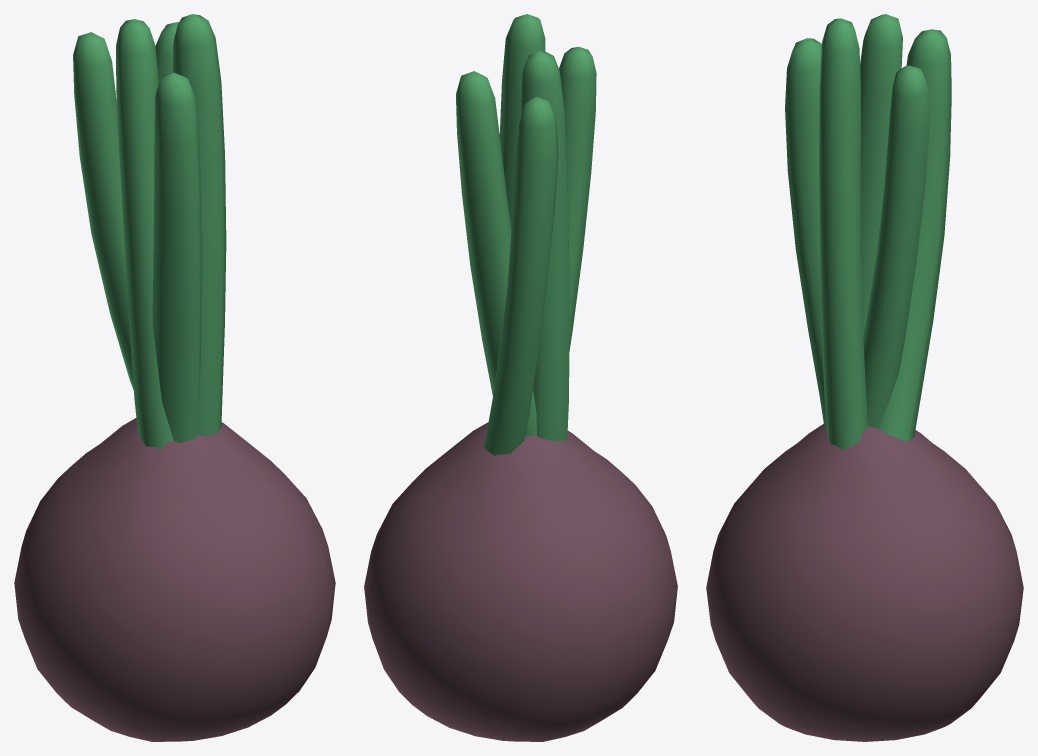
The model's file is Onion_01.dae.
The picture shows the model from 3 angles, left to right: view 1: azimuth 30°, elevation 25°; view 2: azimuth 150°, elevation 25°; view 3: azimuth 270°, elevation 25°; orthographic projection. The views are drawn at different scales.
Parts seen in each view (by area): view 1: Onion_01_LOD0; view 2: Onion_01_LOD0; view 3: Onion_01_LOD0.
Part boxes in pixels (<box>): Onion_01_LOD0: <box>14,14,335,741</box>; Onion_01_LOD0: <box>364,14,677,741</box>; Onion_01_LOD0: <box>706,14,1023,741</box>.
Size of what is drawn, in the model's own units: 3.47 by 3.49 by 8.56.
